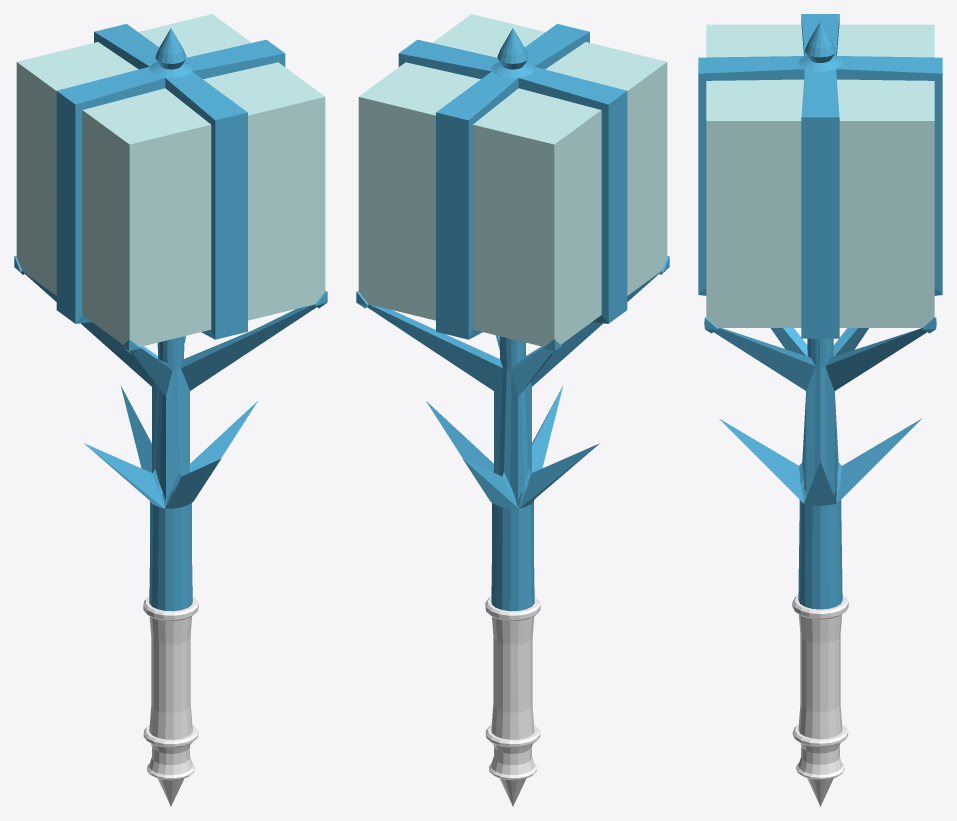
File: IceRod.fbx
The picture shows the model from 3 angles, left to right: view 1: azimuth 30°, elevation 25°; view 2: azimuth 150°, elevation 25°; view 3: azimuth 270°, elevation 25°; orthographic projection.
Visible parts, largest first — view 1: IceRod; view 2: IceRod; view 3: IceRod.
Boxes of the visible parts, x1,y1,x2,y2 form: IceRod: (14, 14, 327, 806); IceRod: (356, 14, 669, 806); IceRod: (698, 14, 942, 806).
Bounding box in the file's own units: 214 × 760 × 214.
